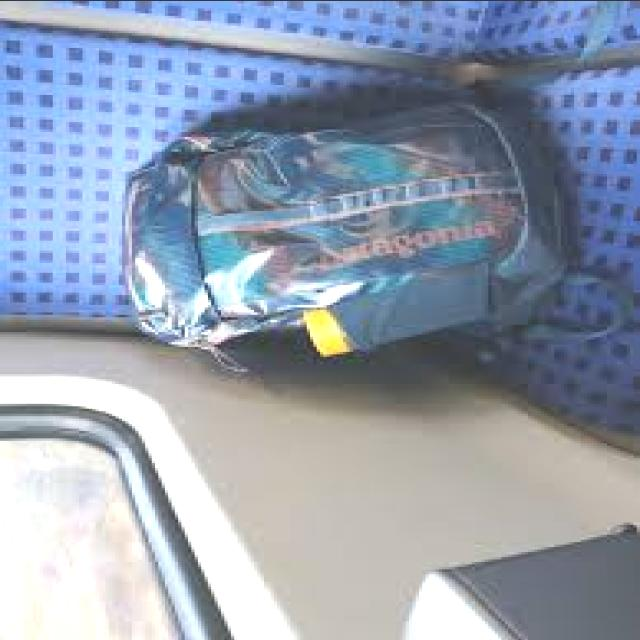backpack: (122, 77, 580, 393)
